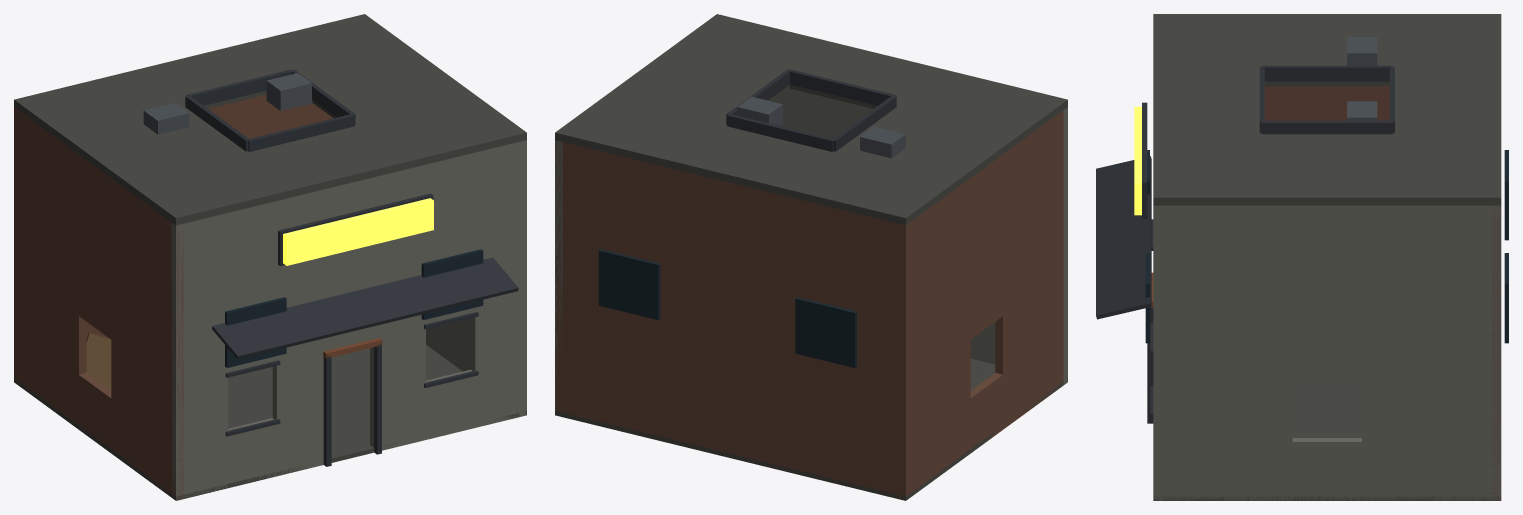
The model's file is shop_gas.glb.
3 renders of one model, left to right at view 1: azimuth 30°, elevation 25°; view 2: azimuth 150°, elevation 25°; view 3: azimuth 270°, elevation 25°, orthographic. The views are drawn at different scales.
Parts seen in each view (by area): view 1: shop_gas; view 2: shop_gas; view 3: shop_gas.
Boxes of the visible parts, <box> form: shop_gas: <box>14,14,526,500</box>; shop_gas: <box>555,14,1067,500</box>; shop_gas: <box>1096,14,1508,500</box>.
Size of the model in its own units: 10 by 8.18 by 9.5.
